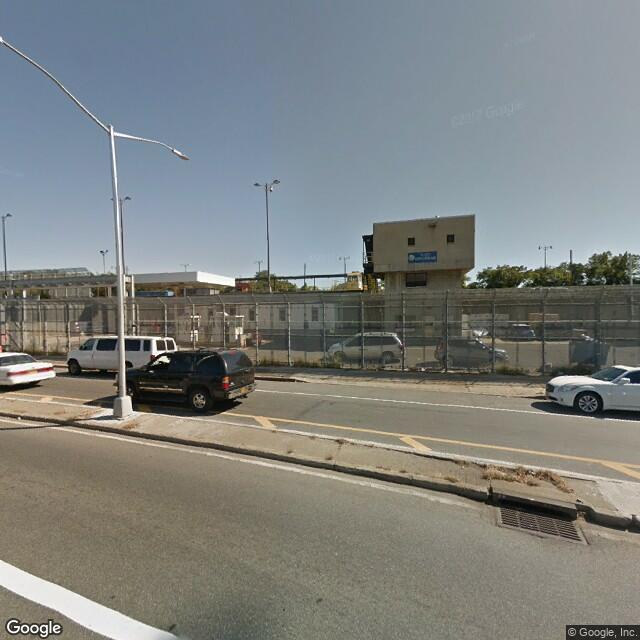litter: (16, 416, 24, 421)
